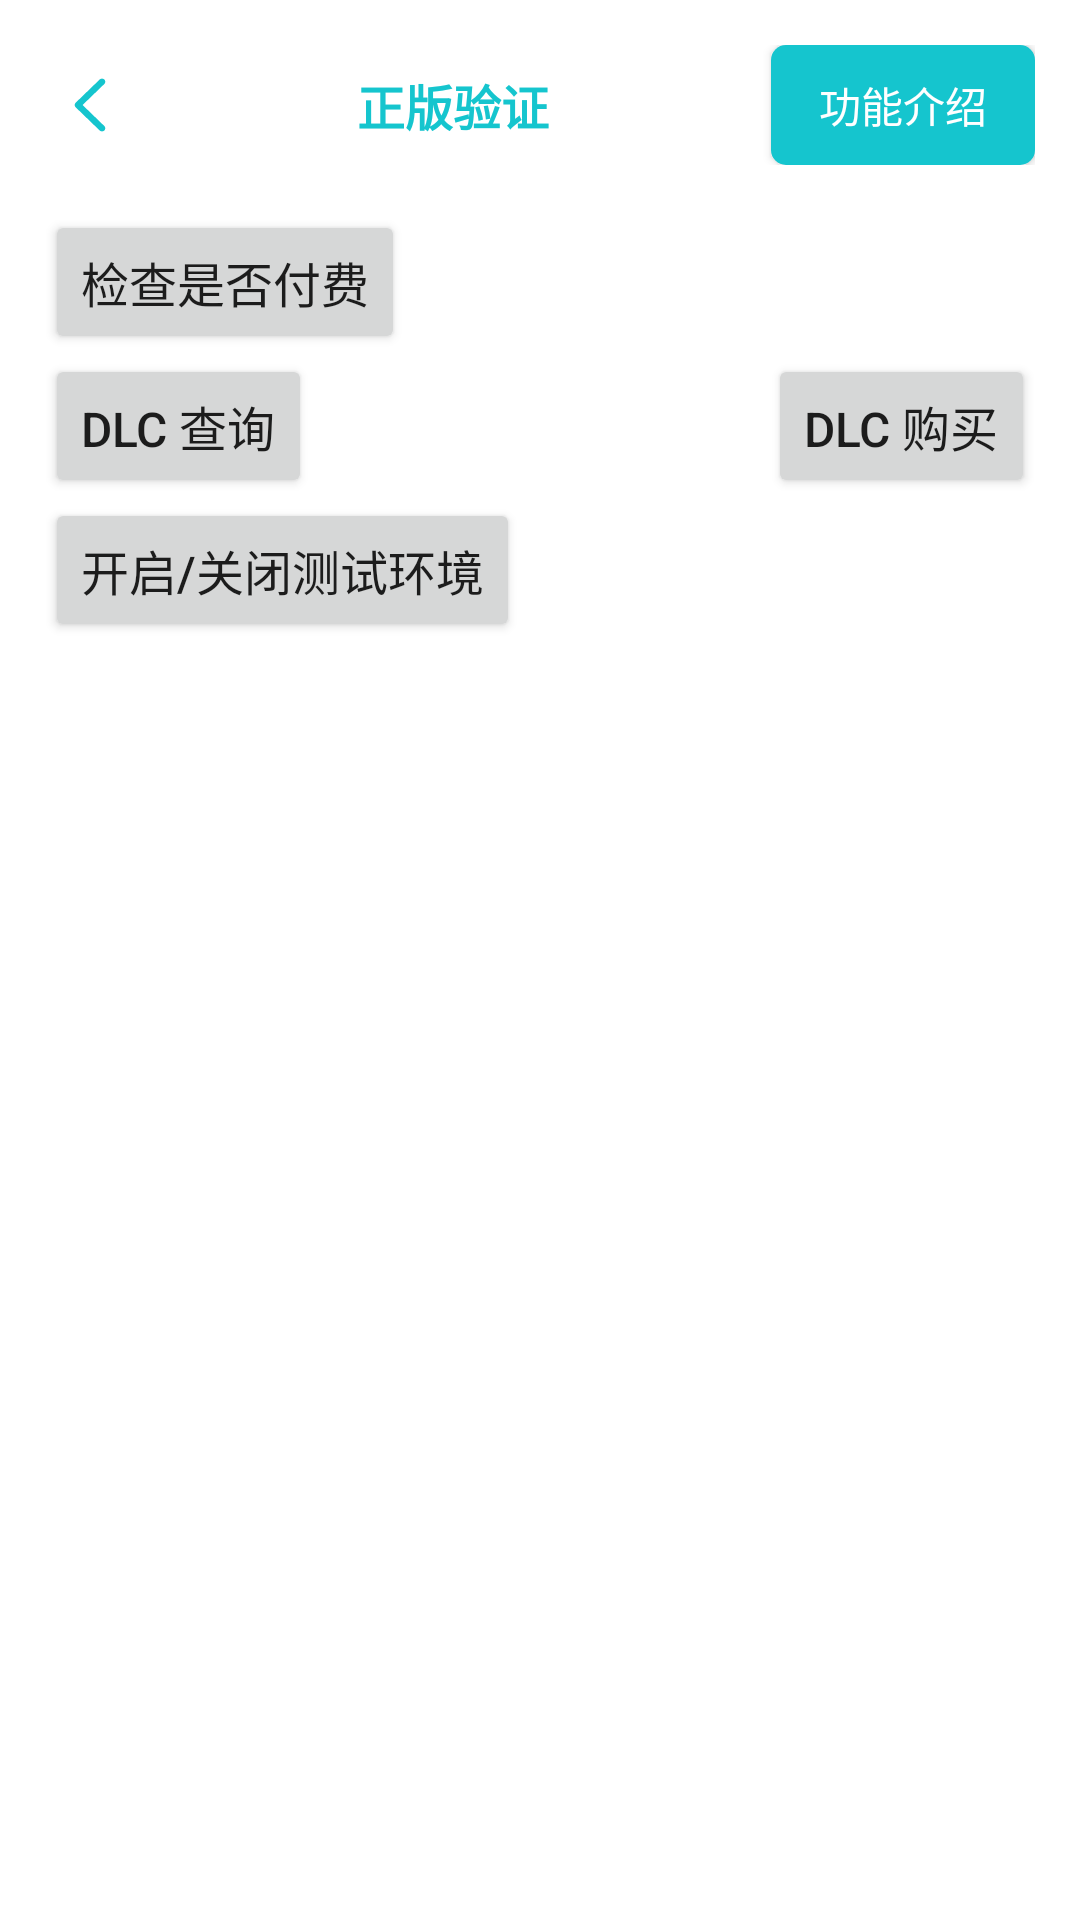

Point at icon controls on the screen. Image size 1080px x 1920px, points as (x=x, y=y).
back: (x=90, y=105)
